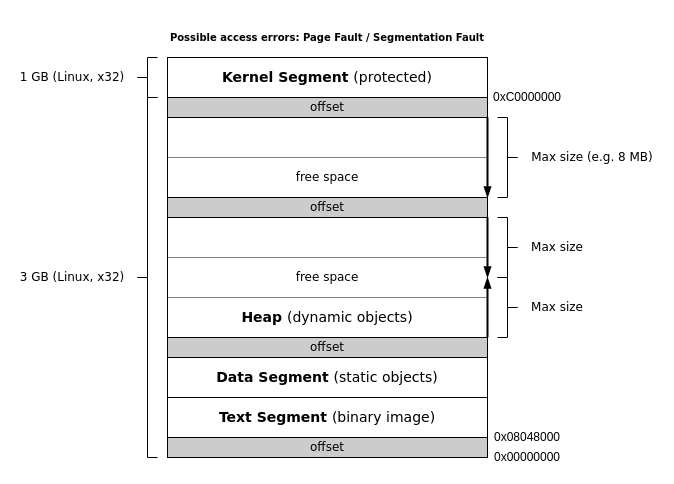
Image size: 674x484. Some labels were removed from this diagram. The centre of each missing label's shape, as x and y in pixels:
"Memory Mapping Segment (DLL, etc.)" goes at pixel 327 237.
"Stack (automatic objects)" goes at pixel 327 137.
